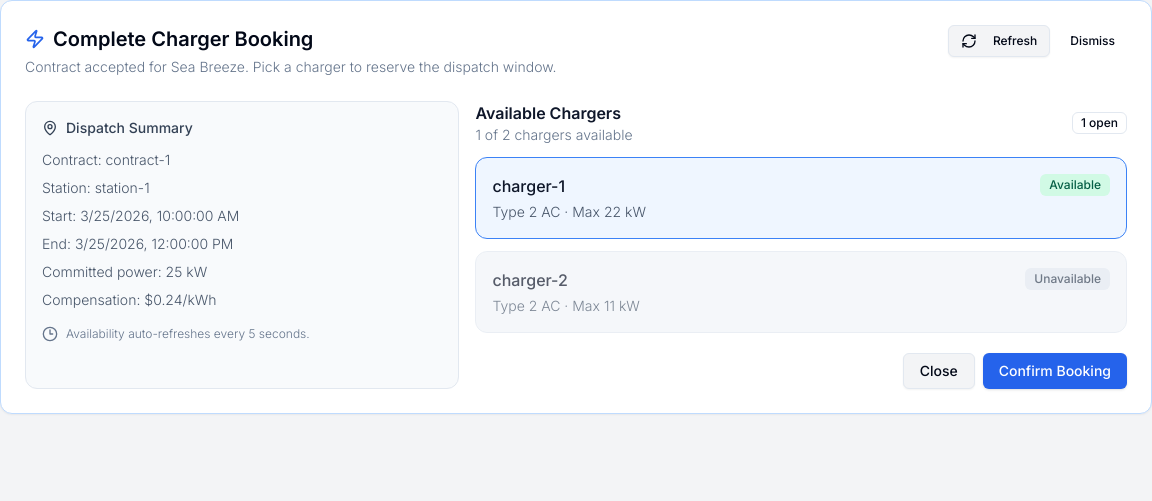
Test: ContractBookingFlow › shows a conflict error and refreshes availability
Click the button "Confirm Booking" at [1055, 371], box [983,353,1127,389]
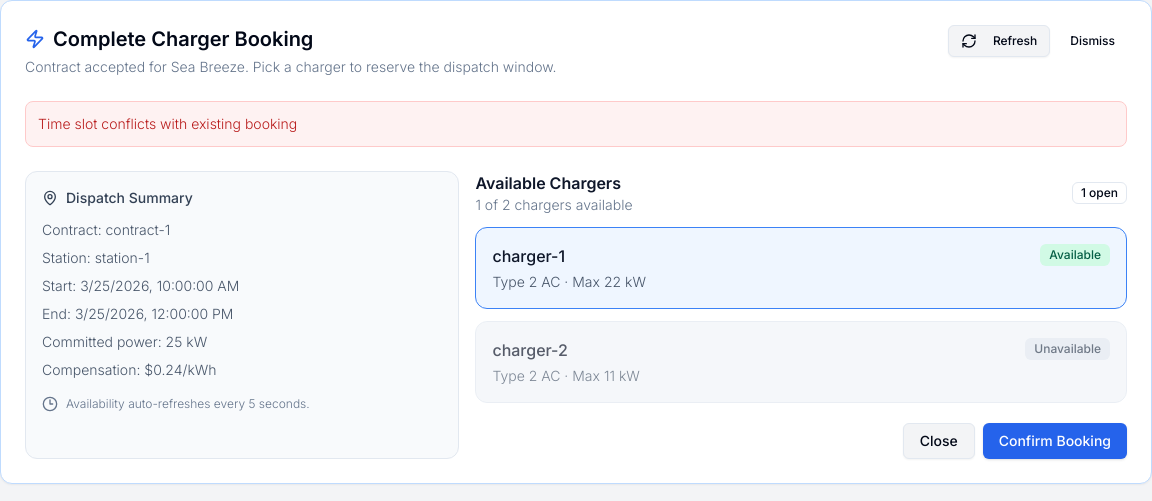
Result: the text "Time slot conflicts with existing booking" is shown at [25,101,1127,147]
